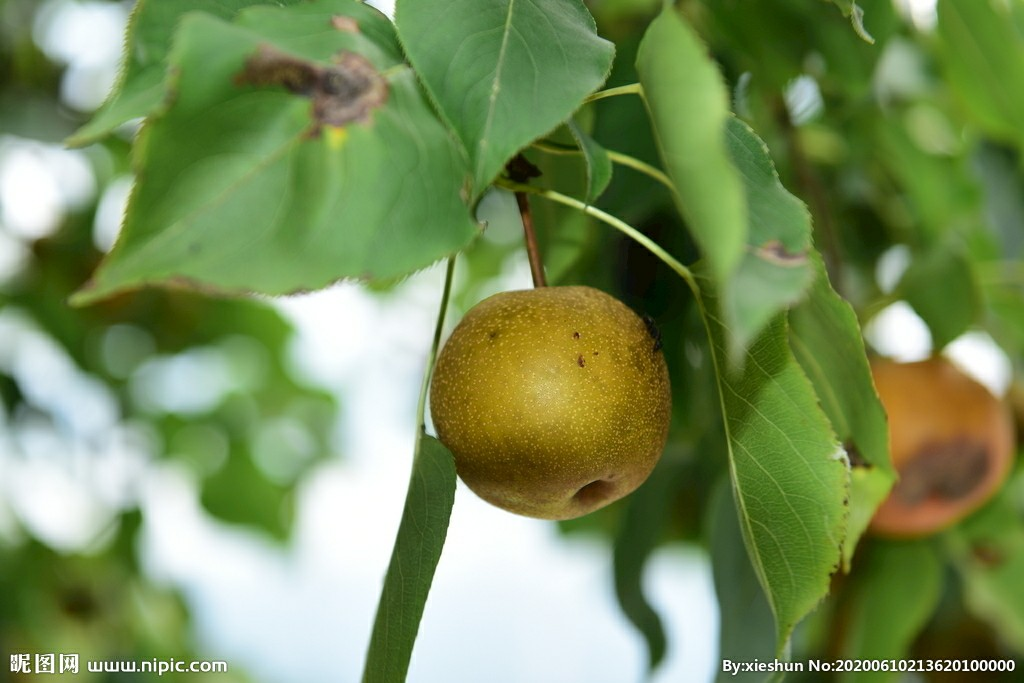pear: (429, 284, 668, 517)
